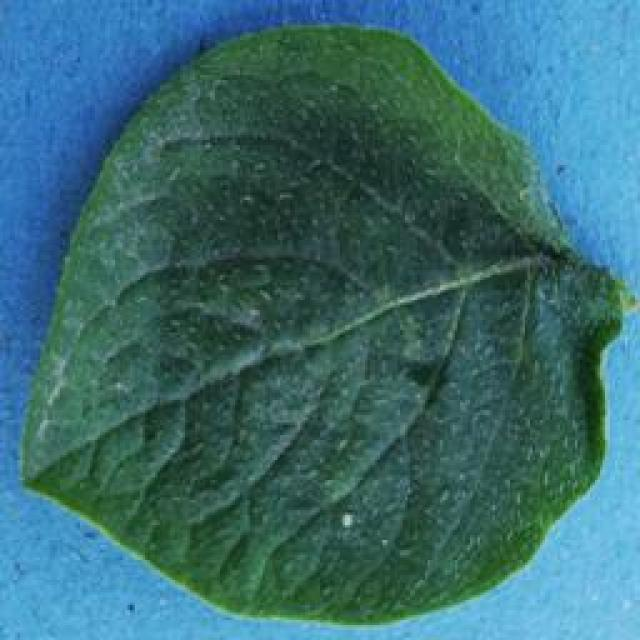Potato_Healthy: (20, 25, 630, 624)
